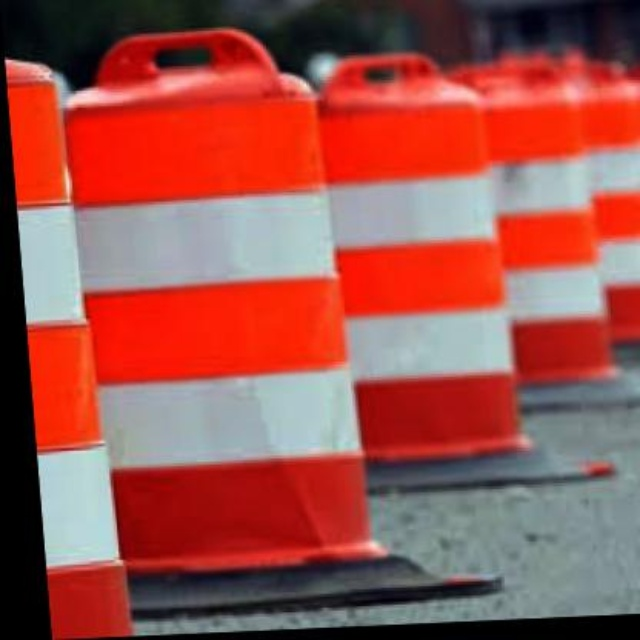obstacle: (60, 42, 388, 593)
